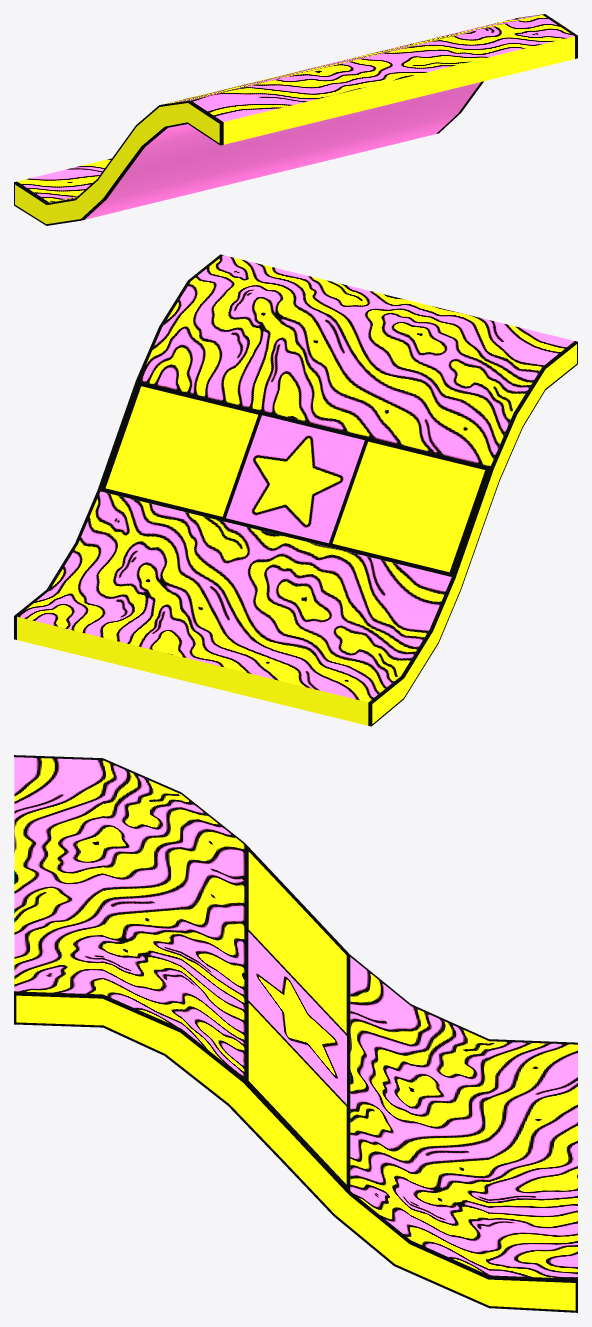
Rendered from cocobay_slope3.gltf.
3 renders of one model, top to bottom at view 1: azimuth 30°, elevation 25°; view 2: azimuth 150°, elevation 25°; view 3: azimuth 270°, elevation 25°, orthographic. The views are drawn at different scales.
Parts seen in each view (by area): view 1: cocobay_slope3_glb; view 2: cocobay_slope3_glb; view 3: cocobay_slope3_glb.
Part boxes in pixels (box(x1,y1,x2,y2)): cocobay_slope3_glb: box(14, 14, 577, 225); cocobay_slope3_glb: box(14, 254, 577, 726); cocobay_slope3_glb: box(14, 755, 577, 1312).
Size of what is drawn, in the model's own units: 4 by 2.5 by 4.
Materials: 1 (1 with a texture image).
